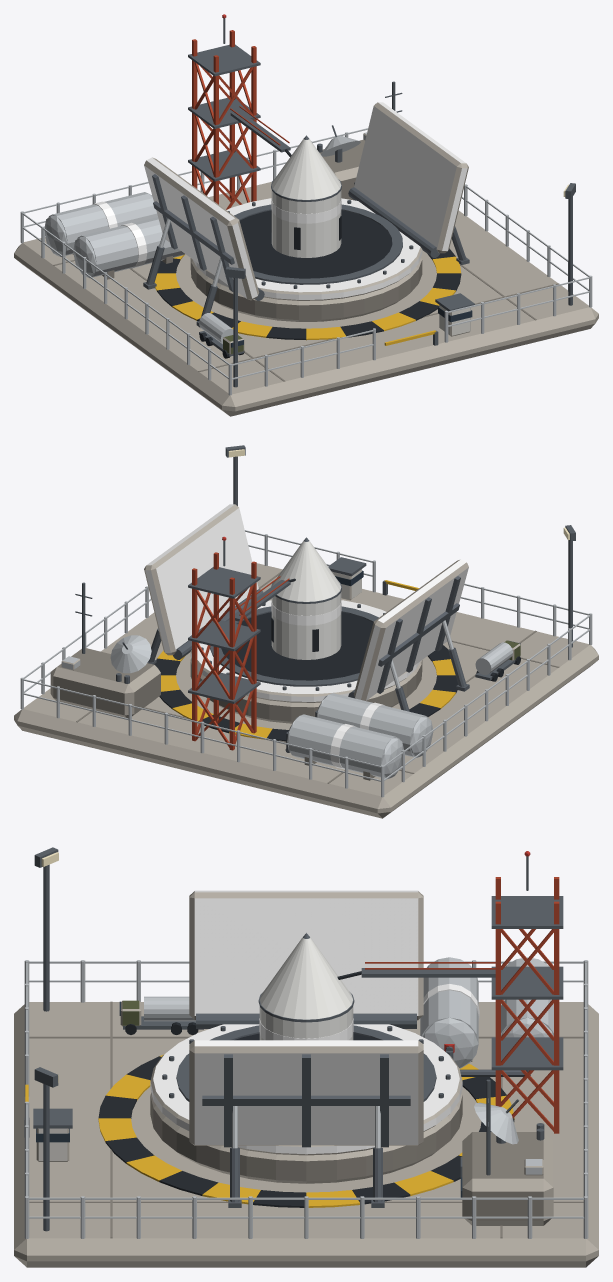
Rendered from missile_silo.glb.
3 views of the same model, one above another, from view 1: azimuth 30°, elevation 25°; view 2: azimuth 150°, elevation 25°; view 3: azimuth 270°, elevation 25° (orthographic). The views are drawn at different scales.
Parts seen in each view (by area): view 1: MissileSilo; view 2: MissileSilo; view 3: MissileSilo.
Boxes of the visible parts, box(x1,y1,x2,y2) form: MissileSilo: box(14, 14, 598, 416); MissileSilo: box(14, 445, 598, 818); MissileSilo: box(14, 847, 598, 1267).
Size of the model in its own units: 0.9 by 0.507 by 0.9.
